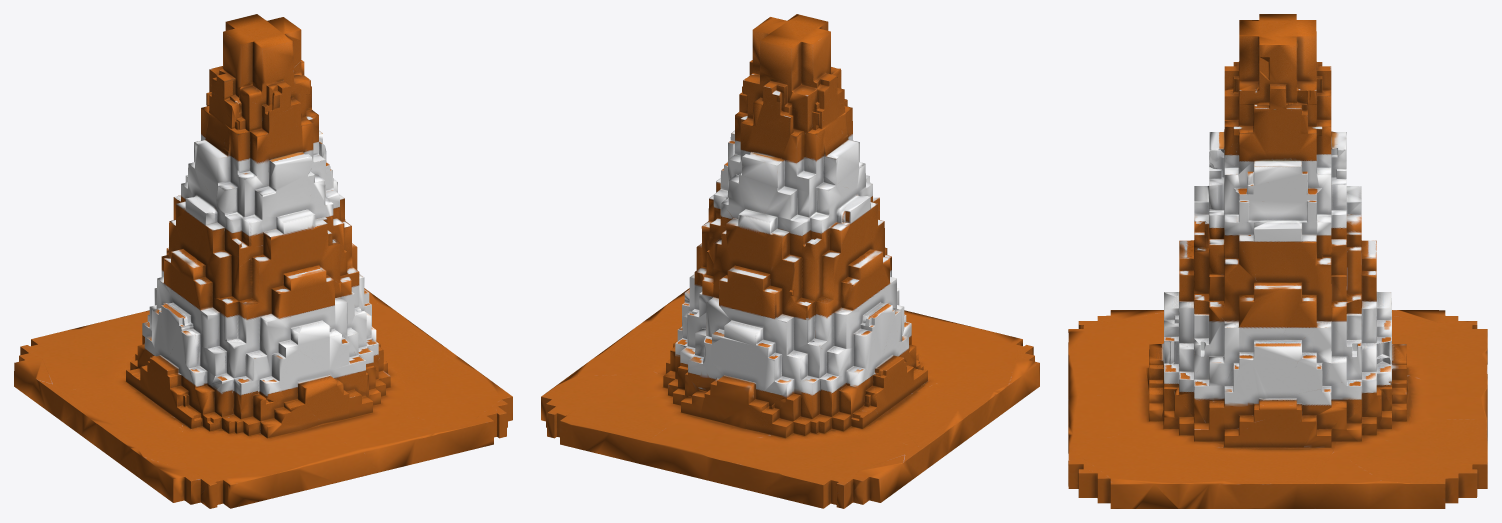
File: TrafficCone.fbx
3 renders of one model, left to right at view 1: azimuth 30°, elevation 25°; view 2: azimuth 150°, elevation 25°; view 3: azimuth 270°, elevation 25°, orthographic. The views are drawn at different scales.
Visible parts, largest first — view 1: Mesh_0; view 2: Mesh_0; view 3: Mesh_0.
Part boxes in pixels (<box>): Mesh_0: <box>14,14,512,508</box>; Mesh_0: <box>541,14,1039,508</box>; Mesh_0: <box>1068,14,1487,508</box>.
Bounding box in the file's own units: 181 × 190 × 184.
Materials: 1 (1 with a texture image).
